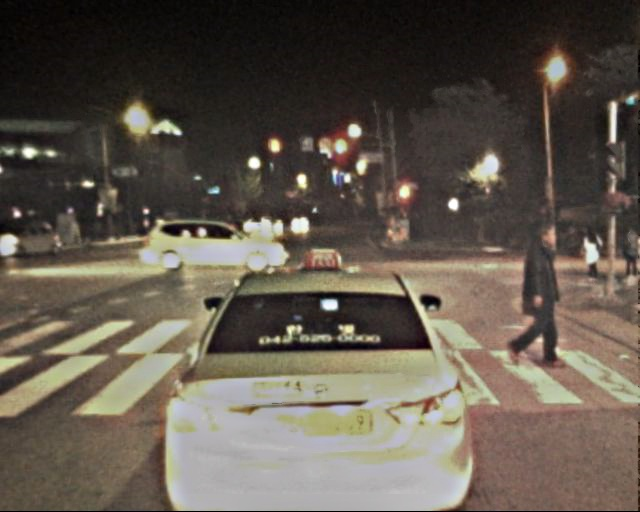person: (507, 226, 566, 370), (579, 225, 605, 288), (619, 227, 640, 284)
